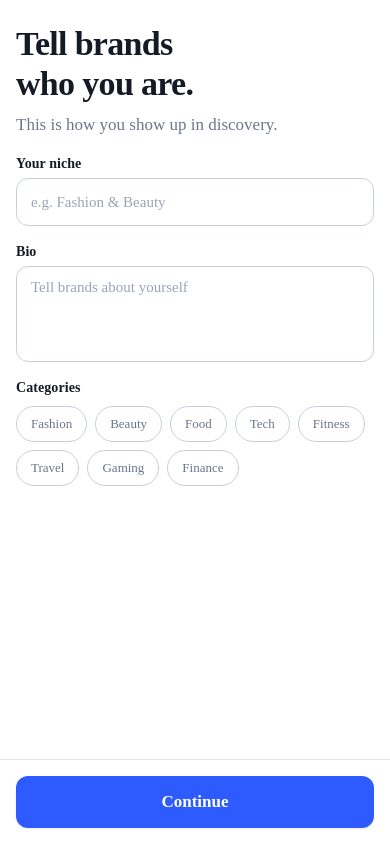
OnboardingScreen (A4) › criterion 2a — invalid profile step surfaces an inline error and does not submit
Expected: the field with test id "input-niche" is shown, [16,178,374,226]
Click the button with test id "btn-next".
click(195, 802)  # box [16,776,374,828]
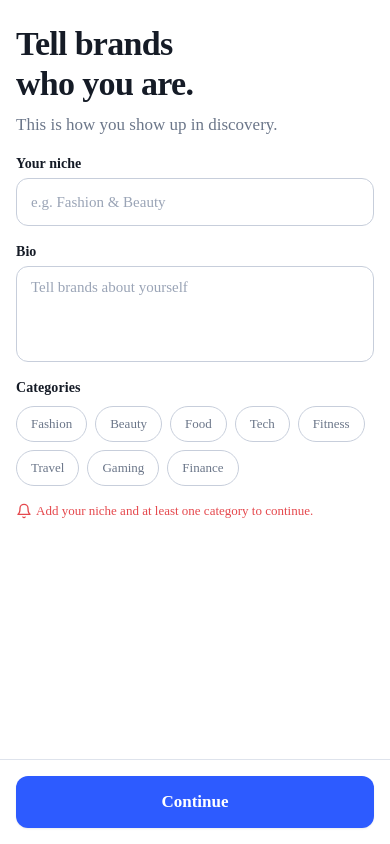
Expected: the element with test id "error-profile" is shown, [16,503,313,519]
